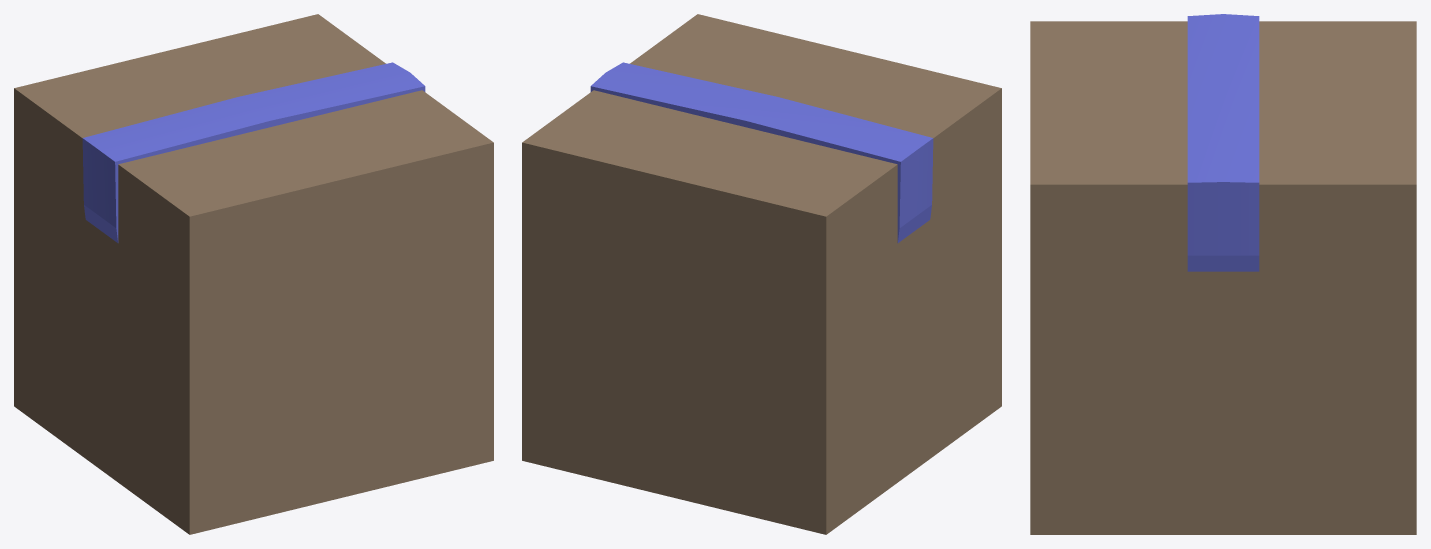
3 views of the same model, side by side, from view 1: azimuth 30°, elevation 25°; view 2: azimuth 150°, elevation 25°; view 3: azimuth 270°, elevation 25° (orthographic). The views are drawn at different scales.
Visible parts, largest first — view 1: Box; view 2: Box; view 3: Box.
Part boxes in pixels (x1,y1,x2,y2): Box: [14, 14, 493, 534]; Box: [522, 14, 1001, 534]; Box: [1030, 14, 1416, 534].
Size of the model in its own units: 53.79 by 53.35 by 52.29.
